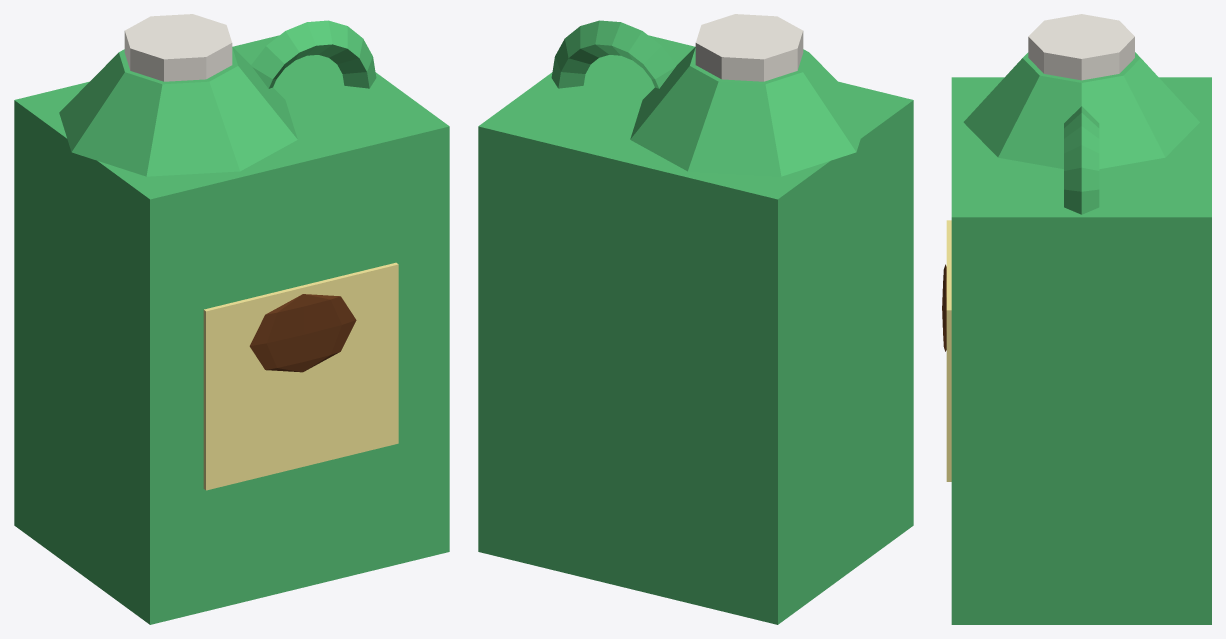
File: shampoo_jug.glb
3 renders of one model, left to right at view 1: azimuth 30°, elevation 25°; view 2: azimuth 150°, elevation 25°; view 3: azimuth 270°, elevation 25°, orthographic. The views are drawn at different scales.
Parts seen in each view (by area): view 1: jug_jug_plastic, label_jug_label, cap_jug_cap, label_label_hair, handle_jug_plastic; view 2: jug_jug_plastic, cap_jug_cap, handle_jug_plastic; view 3: jug_jug_plastic, cap_jug_cap, handle_jug_plastic, label_jug_label.
Part boxes in pixels (x1=…): jug_jug_plastic: x1=14, y1=35, x2=449, y2=624; label_jug_label: x1=203, y1=262, x2=398, y2=490; cap_jug_cap: x1=124, y1=14, x2=232, y2=81; label_label_hair: x1=249, y1=294, x2=356, y2=372; handle_jug_plastic: x1=251, y1=20, x2=376, y2=88; jug_jug_plastic: x1=478, y1=35, x2=913, y2=624; cap_jug_cap: x1=695, y1=14, x2=803, y2=81; handle_jug_plastic: x1=551, y1=20, x2=676, y2=88; jug_jug_plastic: x1=951, y1=52, x2=1211, y2=624; cap_jug_cap: x1=1028, y1=14, x2=1134, y2=80; handle_jug_plastic: x1=1064, y1=106, x2=1099, y2=214; label_jug_label: x1=946, y1=220, x2=951, y2=481.
Size of the model in its own units: 0.29 by 0.46 by 0.228.
